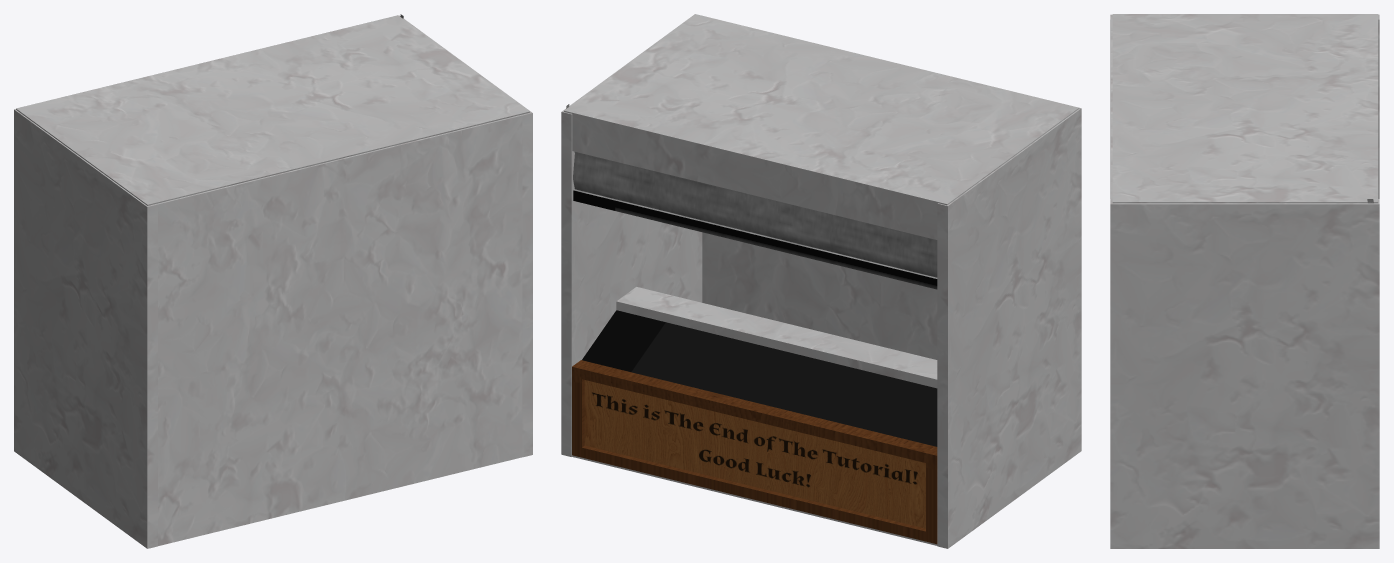
File: booth1.fbx
3 renders of one model, left to right at view 1: azimuth 30°, elevation 25°; view 2: azimuth 150°, elevation 25°; view 3: azimuth 270°, elevation 25°, orthographic.
Visible parts, largest first — view 1: polySurface560; view 2: polySurface560; view 3: polySurface560.
Part boxes in pixels (<box>): polySurface560: <box>14,14,532,548</box>; polySurface560: <box>561,14,1081,548</box>; polySurface560: <box>1110,14,1379,548</box>.
Size of the model in its own units: 4.82 by 4.14 by 2.89.
2 materials, 2 textured.
